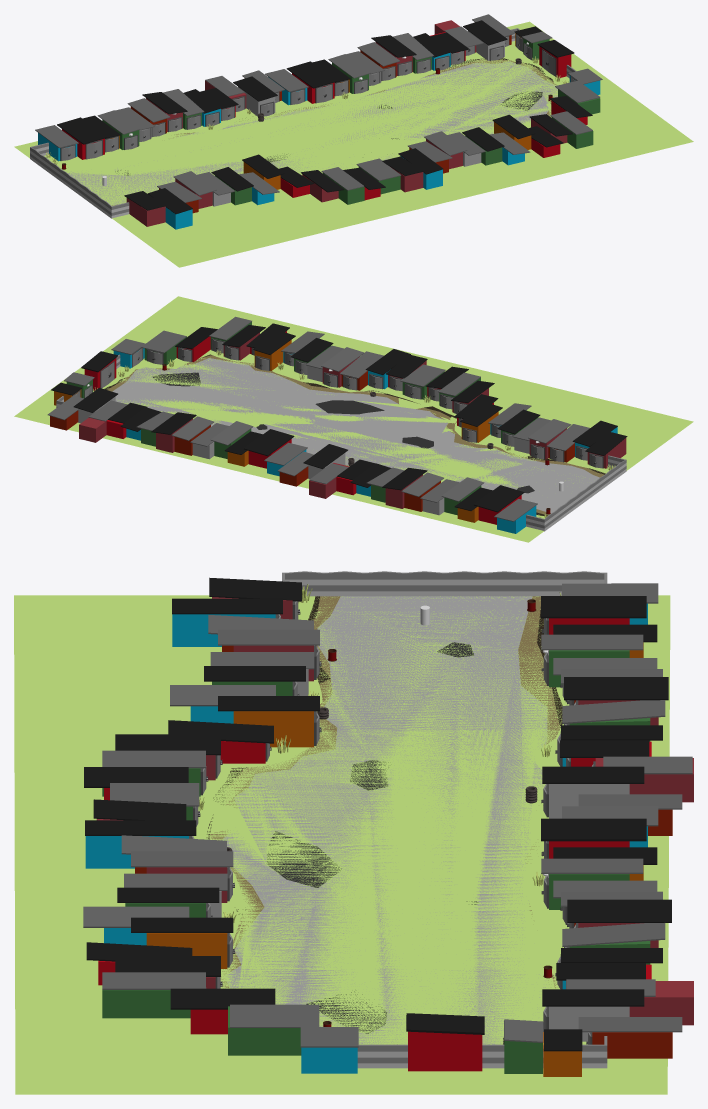
Rendered from Гаражи 2.fbx.
3 renders of one model, top to bottom at view 1: azimuth 30°, elevation 25°; view 2: azimuth 150°, elevation 25°; view 3: azimuth 270°, elevation 25°, orthographic. The views are drawn at different scales.
Parts seen in each view (by area): view 1: Plane, Cube.256, Cube.032, Cube.283, Cube.003, Cube.052, Cube.263, Cube.269, Cube.046, Cube.033, Cube.282, Cube.034 (+37 smaller); view 2: Plane, Cube.256, Cube.032, Cube.283, Cube.296, Cube.263, Cube.052, Cube.269, Cube.046, Cube.264, Cube.033, Cube.051 (+39 smaller); view 3: Plane, Cube.256, Cube.338, Cube.283, Cube.286, Cube.029, Cube.032, Cube.297, Cube.269, Cube.292, Cube.287, Cube.021 (+65 smaller).
Part boxes in pixels (x1,y1,x2,y2): Plane: (14, 21, 693, 267); Cube.256: (30, 28, 576, 218); Cube.032: (57, 117, 107, 144); Cube.283: (286, 61, 337, 88); Cube.003: (126, 198, 165, 226); Cube.052: (233, 76, 277, 101); Cube.263: (463, 20, 507, 45); Cube.269: (555, 80, 600, 103); Cube.046: (356, 158, 401, 180); Cube.033: (148, 188, 192, 214); Cube.282: (398, 148, 443, 174); Cube.034: (173, 171, 216, 195); Plane: (14, 296, 693, 542); Cube.256: (56, 354, 626, 531); Cube.032: (474, 485, 524, 512); Cube.283: (244, 429, 294, 456); Cube.296: (79, 417, 107, 442); Cube.263: (73, 387, 117, 412); Cube.052: (303, 444, 347, 468); Cube.269: (141, 330, 186, 352); Cube.046: (400, 364, 445, 386); Cube.264: (340, 351, 383, 378); Cube.033: (572, 420, 617, 446); Cube.051: (546, 424, 589, 450); Plane: (14, 595, 670, 1094); Cube.256: (282, 571, 607, 1068); Cube.338: (408, 1031, 482, 1071); Cube.283: (541, 818, 646, 841); Cube.286: (567, 899, 671, 922); Cube.029: (564, 677, 668, 700); Cube.032: (541, 596, 646, 618); Cube.297: (102, 990, 190, 1018); Cube.269: (230, 1004, 319, 1027); Cube.292: (228, 1006, 301, 1055); Cube.287: (170, 988, 275, 1009); Cube.021: (233, 711, 313, 747).
Size of the model in its own units: 29445 by 1258 by 16947.
